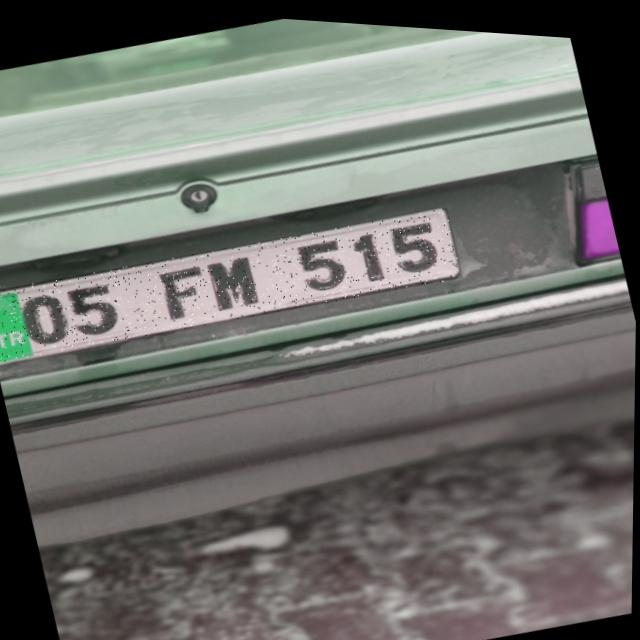license_plate: (0, 177, 464, 386)
